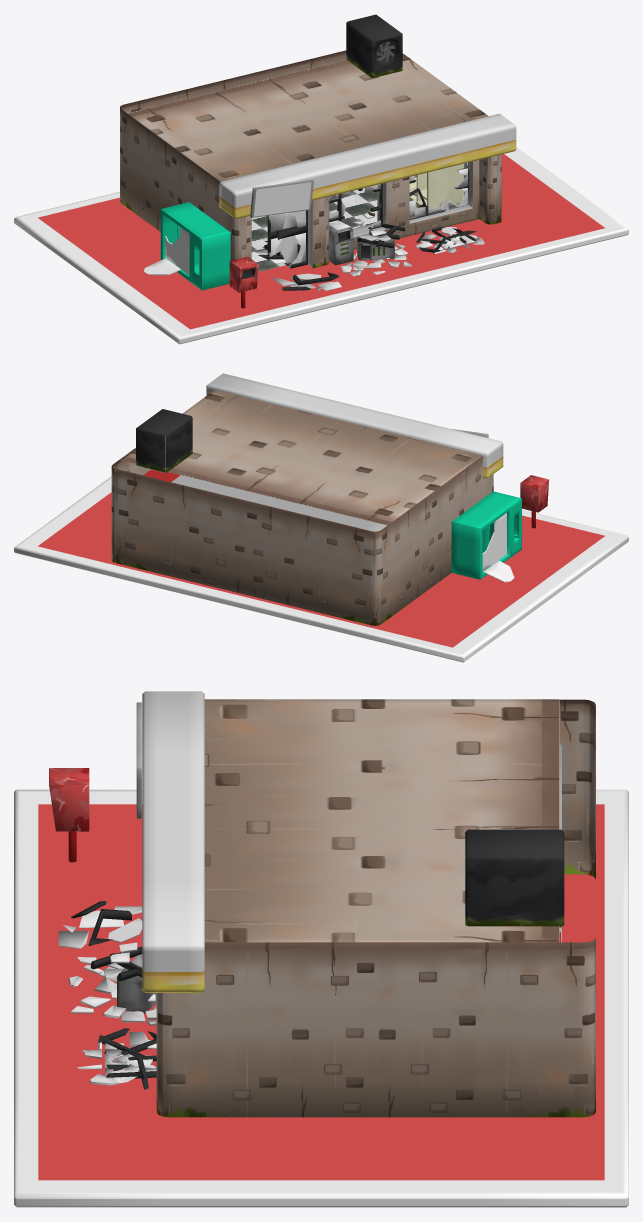
The model's file is Store_Final3.fbx.
3 renders of one model, top to bottom at view 1: azimuth 30°, elevation 25°; view 2: azimuth 150°, elevation 25°; view 3: azimuth 270°, elevation 25°, orthographic. The views are drawn at different scales.
Visible parts, largest first — view 1: Frot_wall, Plane.001, Light_Purple_Blue, Cube.013, Exaust, Floor, Name_Sign, Cube.015, Cube.033_cell, Cube.026_cell, Cylinder, Trash_can.001 (+8 smaller); view 2: Frot_wall, Plane.001, Light_Purple_Blue, Cube.013, Exaust, Cylinder, Cube.014_cell, Cube.014_cell.002; view 3: Frot_wall, Plane.001, Light_Purple_Blue, Exaust, Cube.026_cell, Cylinder, Cube.037_cell.002, Cube.023_cell.004, Trash_can.002, Cube.022_cell.001, Name_Sign.
Part boxes in pixels (<box>): Frot_wall: <box>120,50,501,268</box>; Plane.001: <box>14,147,628,344</box>; Light_Purple_Blue: <box>219,113,516,218</box>; Cube.013: <box>160,202,230,290</box>; Exaust: <box>346,14,402,77</box>; Floor: <box>251,188,377,271</box>; Name_Sign: <box>250,179,313,217</box>; Cube.015: <box>409,163,463,210</box>; Cube.033_cell: <box>267,213,299,265</box>; Cube.026_cell: <box>415,227,484,253</box>; Cylinder: <box>229,256,258,308</box>; Trash_can.001: <box>329,222,353,265</box>; Frot_wall: <box>111,390,493,625</box>; Plane.001: <box>14,476,628,662</box>; Light_Purple_Blue: <box>206,373,503,478</box>; Cube.013: <box>451,491,521,579</box>; Exaust: <box>136,409,192,472</box>; Cylinder: <box>520,475,549,528</box>; Cube.014_cell: <box>482,513,514,582</box>; Cube.014_cell.002: <box>486,532,506,565</box>; Frot_wall: <box>156,699,595,1117</box>; Plane.001: <box>14,789,628,1207</box>; Light_Purple_Blue: <box>142,691,204,992</box>; Exaust: <box>465,829,564,927</box>; Cube.026_cell: <box>77,1028,156,1089</box>; Cylinder: <box>49,768,89,862</box>; Cube.037_cell.002: <box>58,901,142,948</box>; Cube.023_cell.004: <box>68,957,156,1025</box>; Trash_can.002: <box>117,954,156,1013</box>; Cube.022_cell.001: <box>90,942,142,981</box>; Name_Sign: <box>136,702,141,818</box>.
Bounding box in the file's own units: 1707 × 502 × 1087.
